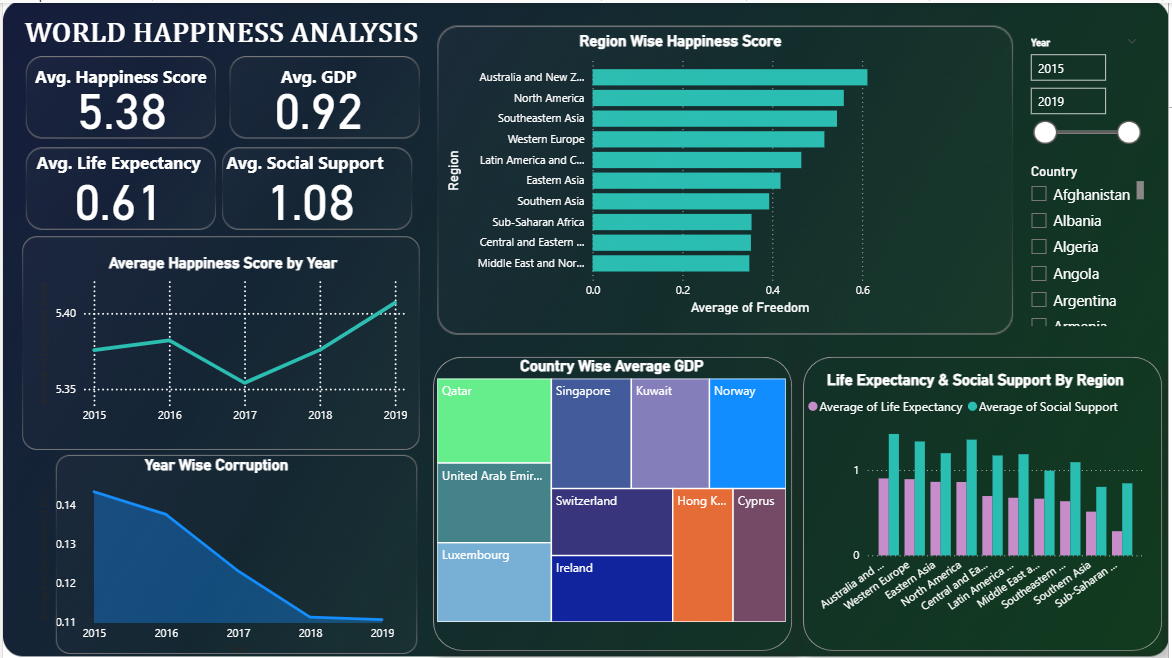

What the dashboard file says about the page in this screenshot:
{"tool":"powerbi","page":{"name":"Page 1","canvas":[1280,720],"ordinal":0},"visuals":[{"type":"image","box":[17.6,54.1,223.7,100.2],"z":0},{"type":"card","fields":{"Values":["Avg(full clean data.Happiness Score)"]},"box":[57.4,93.9,144.1,60.4],"z":1000},{"type":"textbox","box":[29.9,63.7,199,35.7],"z":2000},{"type":"card","fields":{"Values":["Avg(full clean data.GDP)"]},"box":[274.2,93.9,144.1,60.4],"z":3000},{"type":"textbox","box":[256.3,63.7,179.8,49.4],"z":4000},{"type":"card","fields":{"Values":["Avg(full clean data.Life Expectancy)"]},"box":[54.9,193.5,144.1,60.4],"z":5000},{"type":"textbox","box":[30.2,157.8,193.5,49.4],"z":6000},{"type":"card","fields":{"Values":["Avg(full clean data.Social Support)"]},"box":[274.4,193.5,126.2,60.4],"z":7000},{"type":"textbox","box":[229.2,157.8,204.5,49.4],"z":8000},{"type":"lineChart","title":"Average Happiness Score by Year","fields":{"Category":["full clean data.Year"],"Y":["Avg(full clean data.Happiness Score)"]},"box":[34.3,274.4,414.4,196.2],"z":9000},{"type":"clusteredBarChart","title":"Region Wise Happiness Score","fields":{"Category":["full clean data.Region"],"Y":["Avg(full clean data.Freedom)"]},"box":[481.6,31.6,524.2,315.6],"z":10000},{"type":"image","box":[471.4,0,641.4,388.6],"z":11000},{"type":"image","box":[17.1,240,445.7,265.7],"z":12000},{"type":"image","box":[241.2,54.1,223.7,100.2],"z":13000},{"type":"image","box":[17.8,153.7,223.7,100.2],"z":14000},{"type":"image","box":[233.3,153.7,223.7,100.2],"z":15000},{"type":"treemap","title":"Country Wise Average GDP","fields":{"Group":["full clean data.Country"],"Values":["Avg(full clean data.GDP)"]},"box":[472,388.3,392.5,296.4],"z":16000},{"type":"stackedAreaChart","title":"Year Wise Corruption","fields":{"Y":["Avg(full clean data.Perceptions of Corruption)"],"Category":["full clean data.Year"]},"box":[34.3,497.1,400,222.9],"z":17000},{"type":"image","box":[41.4,491.4,430,228.6],"z":18000},{"type":"shape","box":[471.4,388.6,394.3,322.9],"z":19000},{"type":"textbox","box":[8.6,11.4,462.9,52.9],"z":20000},{"type":"clusteredColumnChart","title":"Life Expectancy & Social Support By Region","fields":{"Category":["full clean data.Region"],"Y":["Avg(full clean data.Life Expectancy)","Avg(full clean data.Social Support)"]},"box":[878.6,402.9,378.6,295.7],"z":21000},{"type":"shape","box":[878.6,388.6,394.3,322.9],"z":22000},{"type":"slicer","fields":{"Values":["full clean data.Country"]},"box":[1115.7,171.4,141.4,188.6],"z":23000},{"type":"slicer","fields":{"Values":["full clean data.Year"]},"box":[1115.7,31.4,141.4,140],"z":24000}]}

Visuals, with their boxes in screenshot pixels (x1, y1, x2, y2), scaled from the page's 1280x720 canvas onto the 1172x658 screenshot:
image: bbox=(16, 49, 221, 141)
card - Avg(full clean data.Happiness Score): bbox=(53, 86, 184, 141)
textbox: bbox=(27, 58, 210, 91)
card - Avg(full clean data.GDP): bbox=(251, 86, 383, 141)
textbox: bbox=(235, 58, 399, 103)
card - Avg(full clean data.Life Expectancy): bbox=(50, 177, 182, 232)
textbox: bbox=(28, 144, 205, 189)
card - Avg(full clean data.Social Support): bbox=(251, 177, 367, 232)
textbox: bbox=(210, 144, 397, 189)
"Average Happiness Score by Year" lineChart: bbox=(31, 251, 411, 430)
"Region Wise Happiness Score" clusteredBarChart: bbox=(441, 29, 921, 317)
image: bbox=(432, 0, 1019, 355)
image: bbox=(16, 219, 424, 462)
image: bbox=(221, 49, 426, 141)
image: bbox=(16, 140, 221, 232)
image: bbox=(214, 140, 418, 232)
"Country Wise Average GDP" treemap: bbox=(432, 355, 792, 626)
"Year Wise Corruption" stackedAreaChart: bbox=(31, 454, 398, 657)
image: bbox=(38, 449, 432, 657)
shape: bbox=(432, 355, 793, 650)
textbox: bbox=(8, 10, 432, 59)
"Life Expectancy & Social Support By Region" clusteredColumnChart: bbox=(804, 368, 1151, 638)
shape: bbox=(804, 355, 1165, 650)
slicer - full clean data.Country: bbox=(1022, 157, 1151, 329)
slicer - full clean data.Year: bbox=(1022, 29, 1151, 157)
